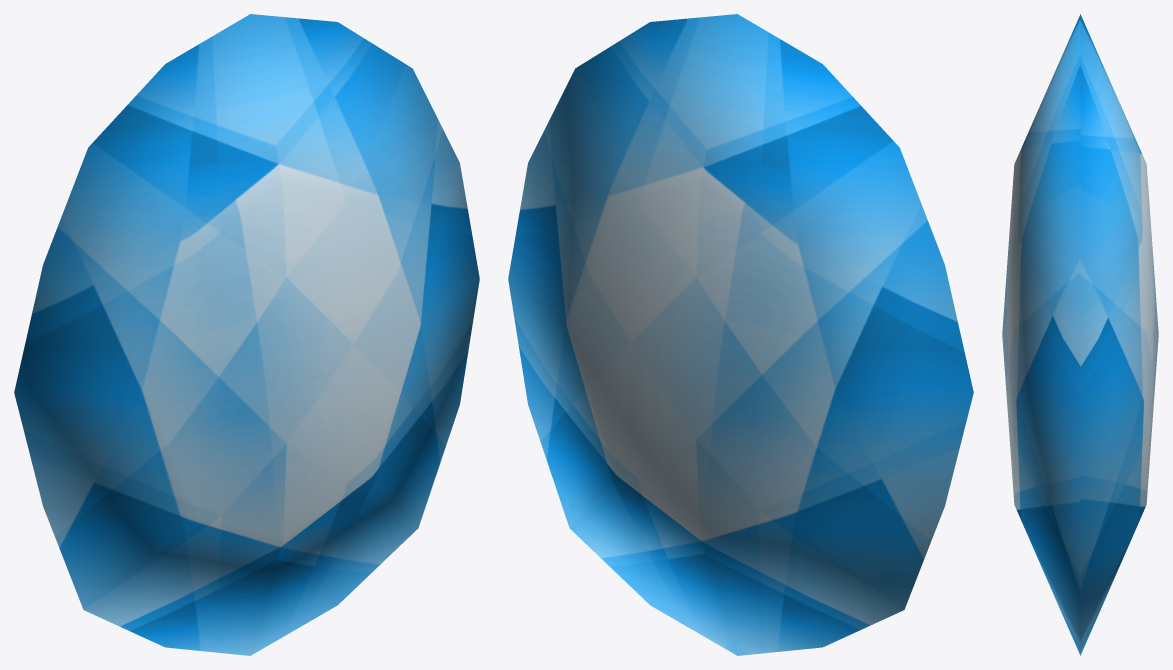
Rendered from Gem-Oval.fbx.
The picture shows the model from 3 angles, left to right: view 1: azimuth 30°, elevation 25°; view 2: azimuth 150°, elevation 25°; view 3: azimuth 270°, elevation 25°; orthographic projection. The views are drawn at different scales.
Parts seen in each view (by area): view 1: Gem-Oval; view 2: Gem-Oval; view 3: Gem-Oval.
Boxes of the visible parts, <box> form: Gem-Oval: <box>14,14,479,655</box>; Gem-Oval: <box>508,14,973,655</box>; Gem-Oval: <box>1002,14,1158,655</box>.
Bounding box in the file's own units: 1.44 × 1.9 × 0.4361.
